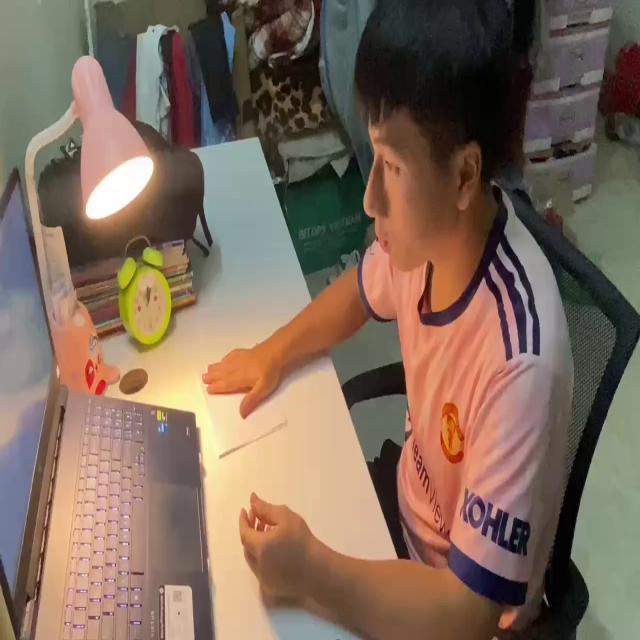book: (198, 358, 288, 461)
laptop: (0, 163, 213, 640)
student: (201, 0, 573, 640)
